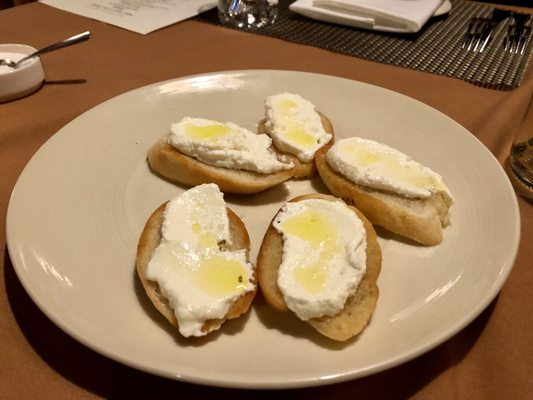soup: (135, 183, 258, 340), (256, 196, 383, 342)
